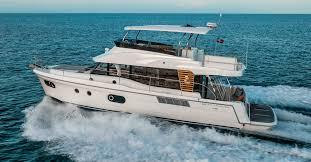Ship: (32, 24, 278, 135)
